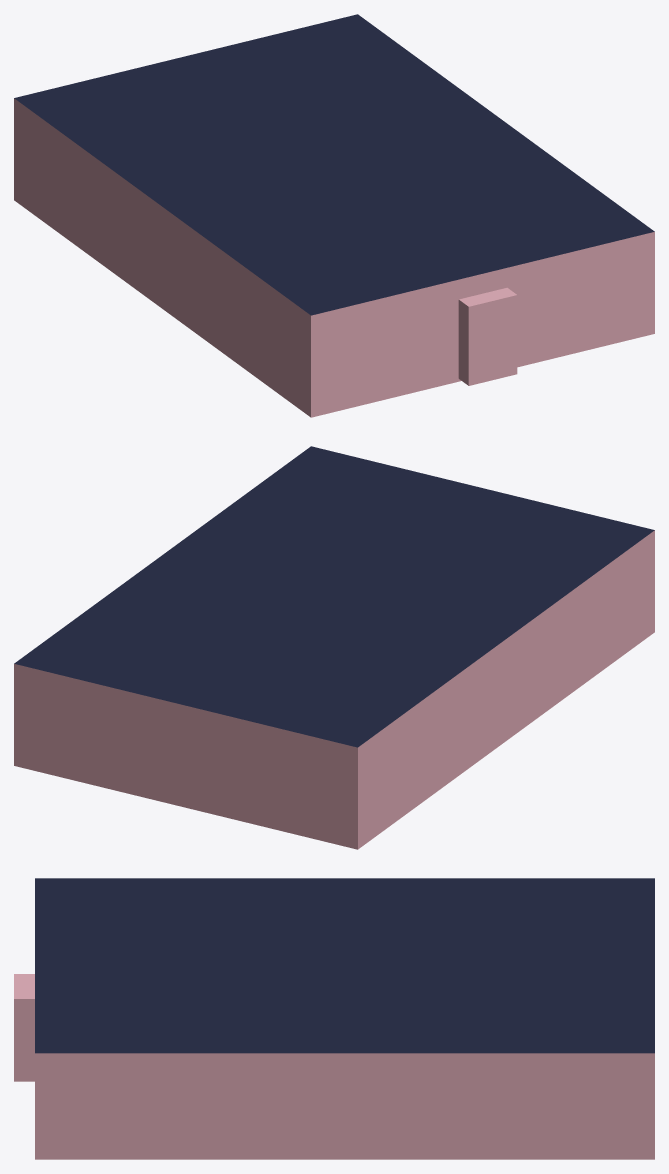
The model's file is Room1.fbx.
3 renders of one model, top to bottom at view 1: azimuth 30°, elevation 25°; view 2: azimuth 150°, elevation 25°; view 3: azimuth 270°, elevation 25°, orthographic. The views are drawn at different scales.
Parts seen in each view (by area): view 1: Room; view 2: Room; view 3: Room.
Part boxes in pixels (x1=…): Room: x1=14, y1=14, x2=654, y2=417; Room: x1=14, y1=446, x2=654, y2=849; Room: x1=14, y1=878, x2=654, y2=1159.
Size of the model in its own units: 1551 by 440 by 2400.
